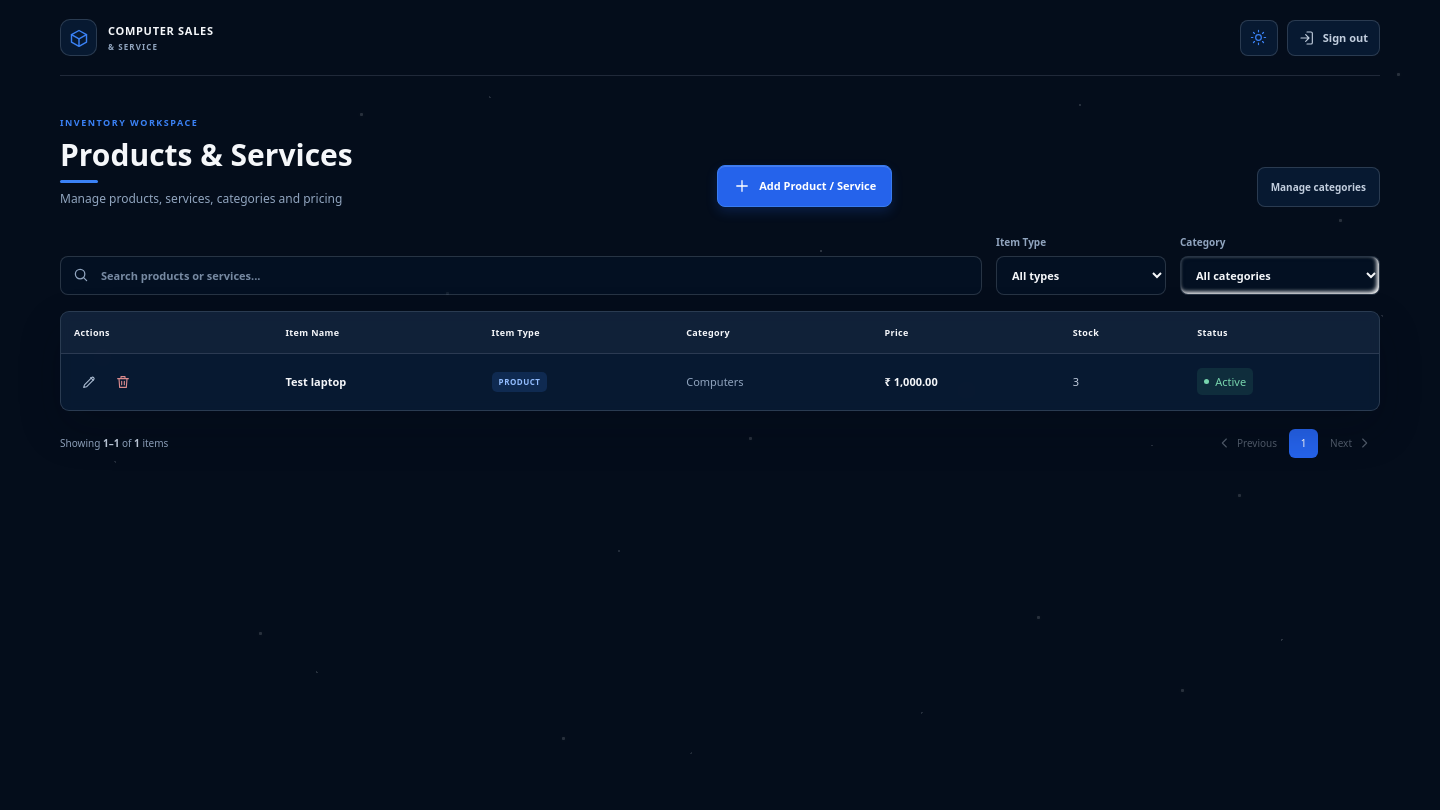
it: updates a product status through the status PATCH endpoint
Click the button with aria-label "Deactivate Test laptop": (1225, 382) [1197,368,1253,395]
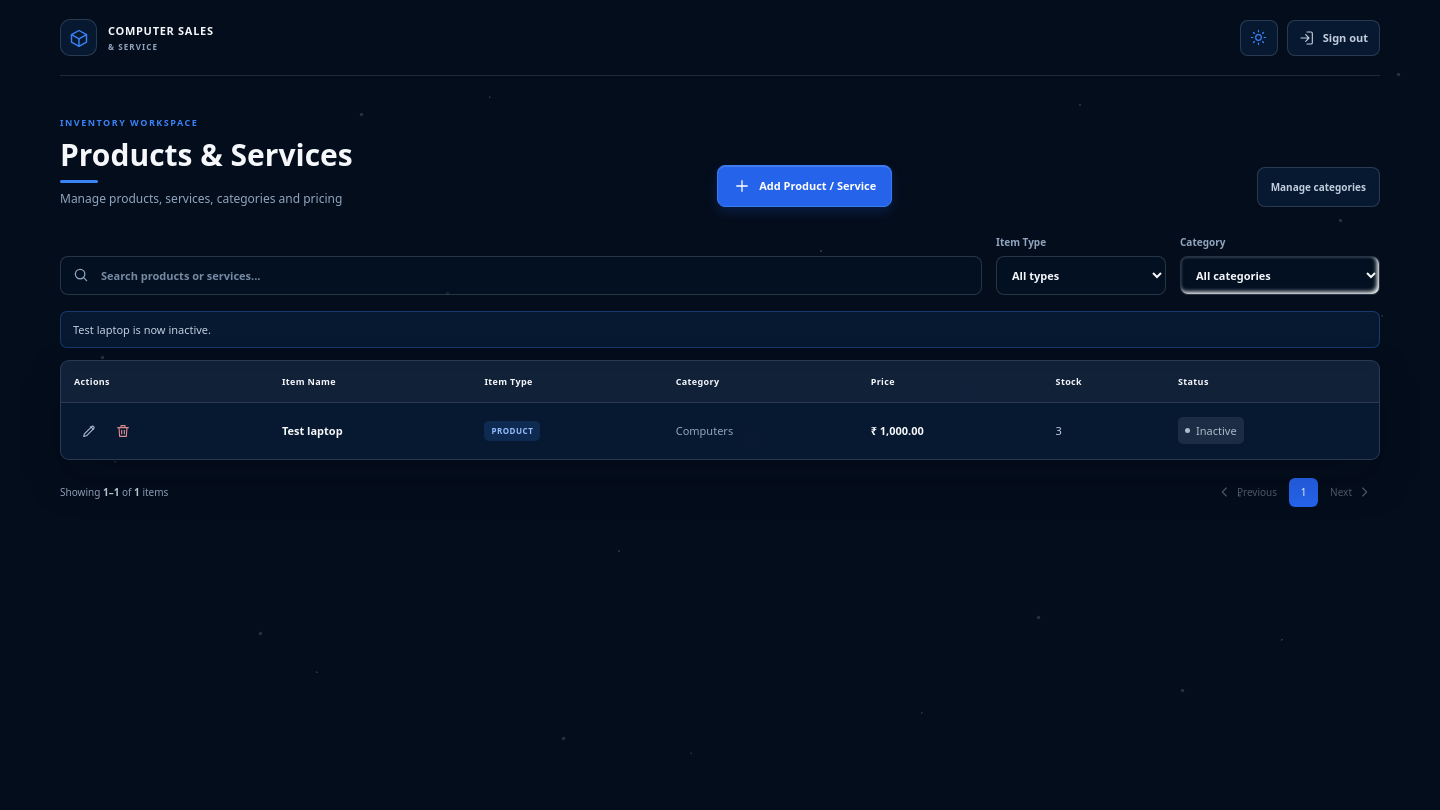
Now the button with aria-label "Activate Test laptop" reads "Inactive", box [1178,417,1244,444]
